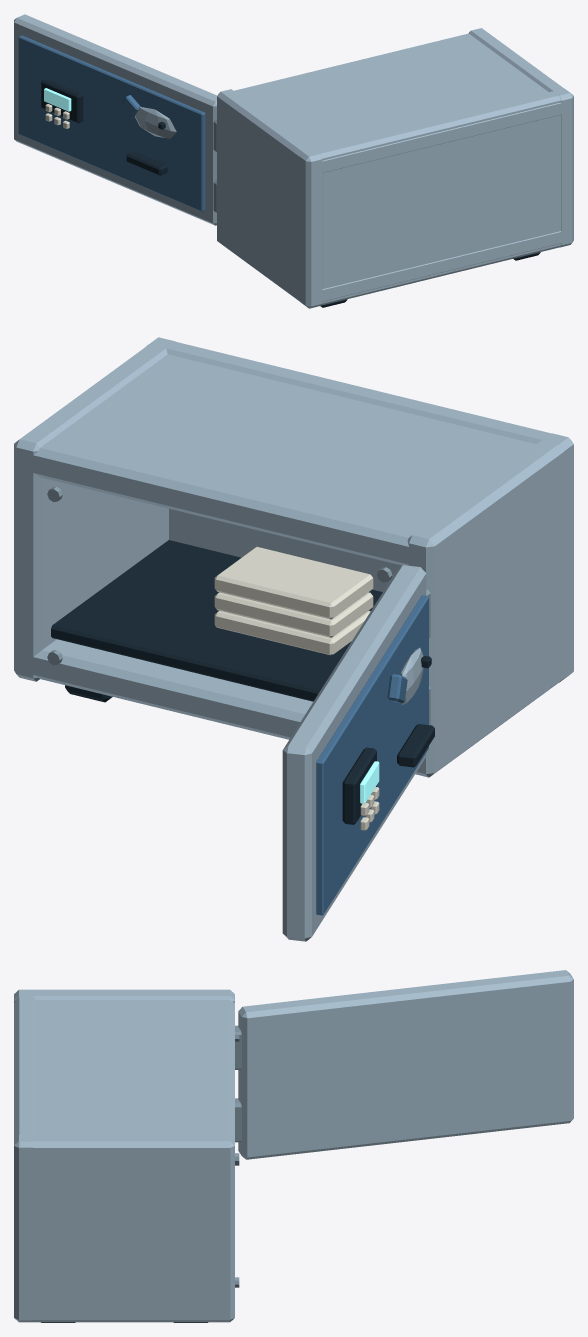
Rendered from supply_case_open.glb.
The picture shows the model from 3 angles, top to bottom: view 1: azimuth 30°, elevation 25°; view 2: azimuth 150°, elevation 25°; view 3: azimuth 270°, elevation 25°; orthographic projection. The views are drawn at different scales.
Parts seen in each view (by area): view 1: back, top, left, inset, door_panel, bottom, right, display, whale_badge, handle, screen; view 2: top, left, right, interior_floor, door_panel, bottom, inset, stored_token_note (×3), back, display, handle, whale_badge; view 3: door_panel, right, top, back, bottom, left.
Part boxes in pixels (bbox=[...]): back: bbox=[299, 89, 572, 308]; top: bbox=[217, 33, 573, 175]; left: bbox=[217, 89, 322, 308]; inset: bbox=[18, 35, 205, 211]; door_panel: bbox=[14, 14, 216, 225]; bottom: bbox=[217, 227, 573, 303]; right: bbox=[468, 28, 573, 247]; display: bbox=[41, 78, 83, 123]; whale_badge: bbox=[135, 107, 176, 138]; handle: bbox=[126, 151, 167, 175]; screen: bbox=[44, 88, 71, 111]; top: bbox=[14, 354, 573, 568]; left: bbox=[407, 433, 573, 777]; right: bbox=[14, 337, 175, 681]; interior_floor: bbox=[51, 540, 382, 701]; door_panel: bbox=[282, 565, 426, 941]; bottom: bbox=[14, 639, 573, 768]; inset: bbox=[316, 595, 428, 915]; stored_token_note (×3): bbox=[214, 547, 373, 655]; back: bbox=[147, 337, 573, 682]; display: bbox=[342, 747, 376, 824]; handle: bbox=[397, 724, 434, 767]; whale_badge: bbox=[400, 648, 423, 705]; door_panel: bbox=[238, 970, 573, 1159]; right: bbox=[14, 1135, 234, 1322]; top: bbox=[14, 1000, 234, 1163]; back: bbox=[14, 991, 36, 1322]; bottom: bbox=[14, 1302, 234, 1316]; left: bbox=[14, 989, 234, 1002].
Bounding box in the file's own units: 1.49 × 0.7 × 1.82.
